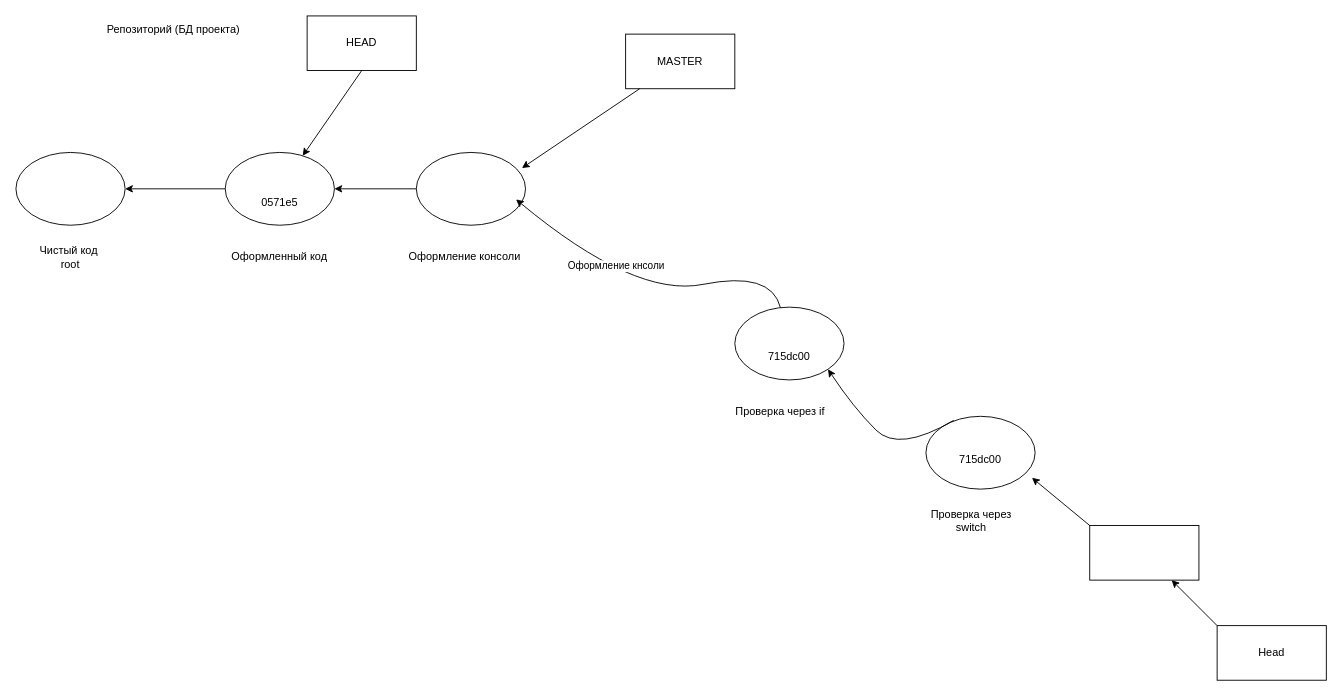
This 1342x696 diagram has some shape labels left out. The centre of each missing label's shape, as x and y in pixels:
"a5a7a8" goes at pixel 470 188.
"condition" goes at pixel 1144 552.
"db23c" goes at pixel 70 188.
